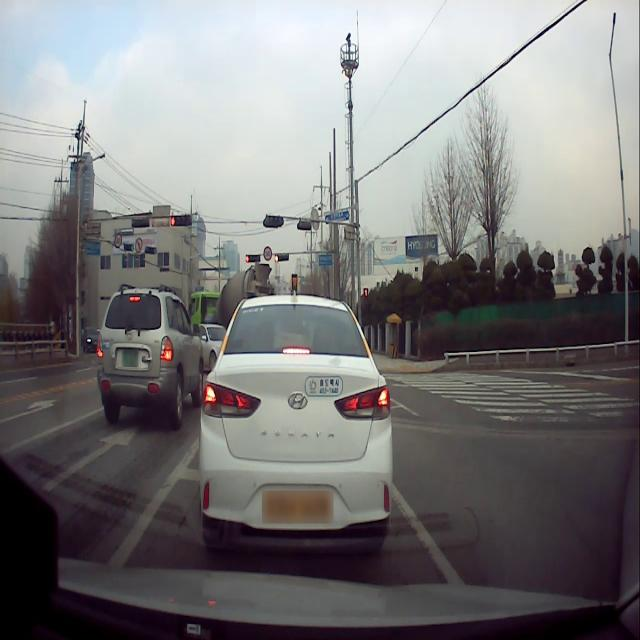Green Light: (131, 244, 133, 252), (154, 247, 156, 255)
Red Light: (170, 215, 176, 228), (245, 254, 250, 264), (274, 254, 279, 263)
